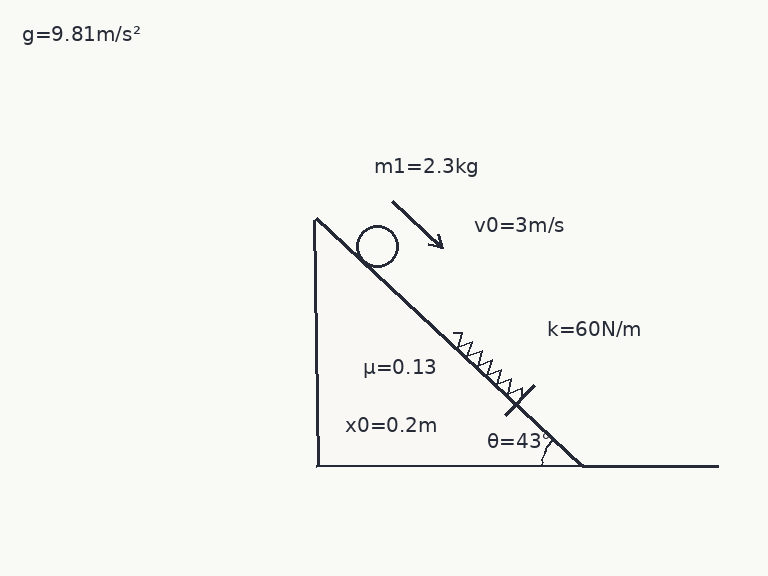ball: (354, 223, 400, 269)
ramp: (315, 216, 584, 468)
spring: (451, 331, 524, 400)
